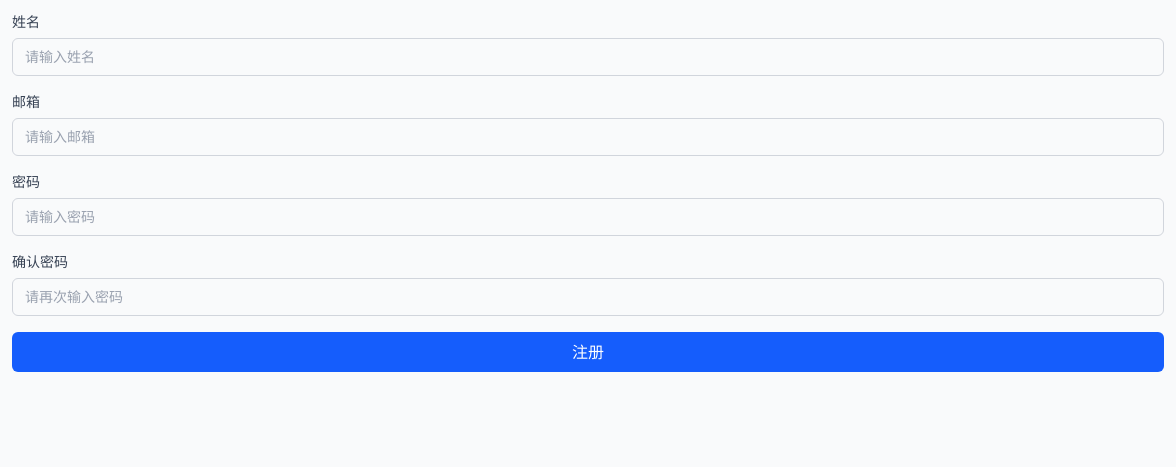
RegisterForm › 邮箱格式错误应显示验证提示
Type "not-an-email" into the field labelled "邮箱". click: (588, 137)
box: [12,118,1164,156]
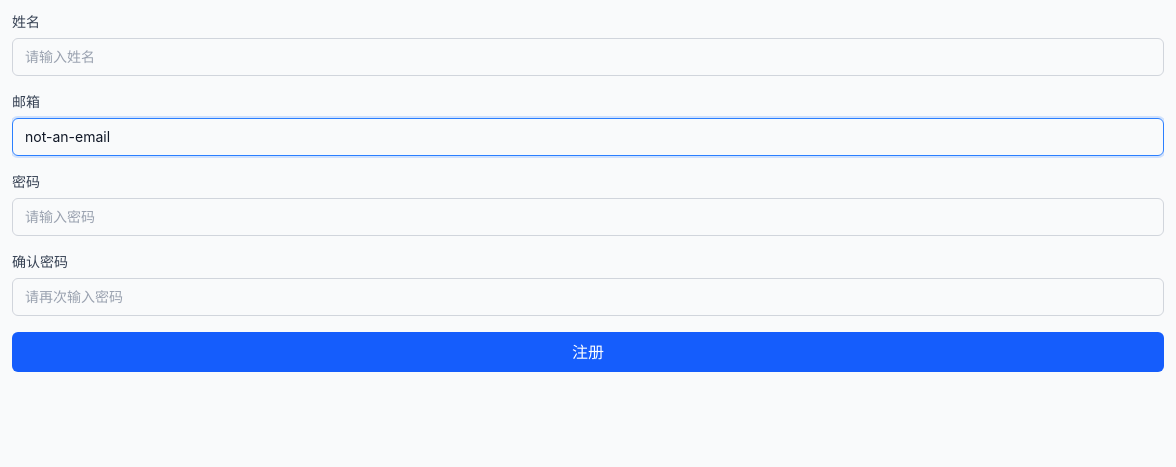
Click the button "注册". click: (588, 352)
box: [12,332,1164,372]
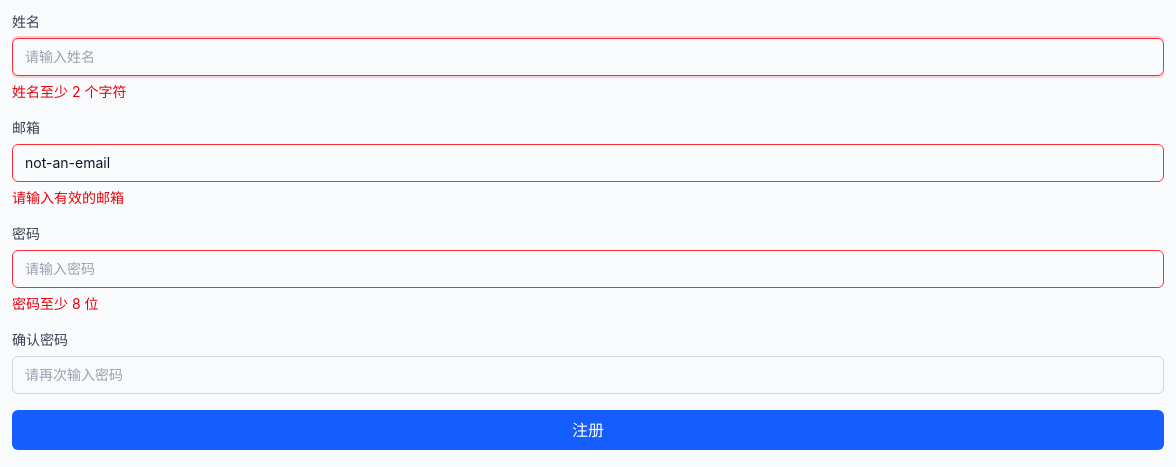
expect the text "请输入有效的邮箱" is shown: met, box [12,189,124,206]
